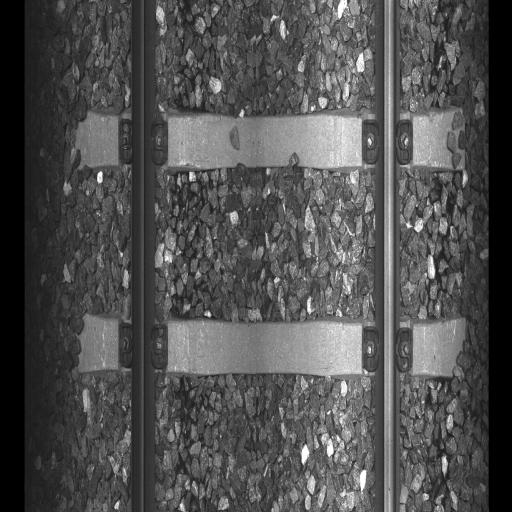sleeper: (73, 103, 467, 183), (68, 310, 467, 387)
